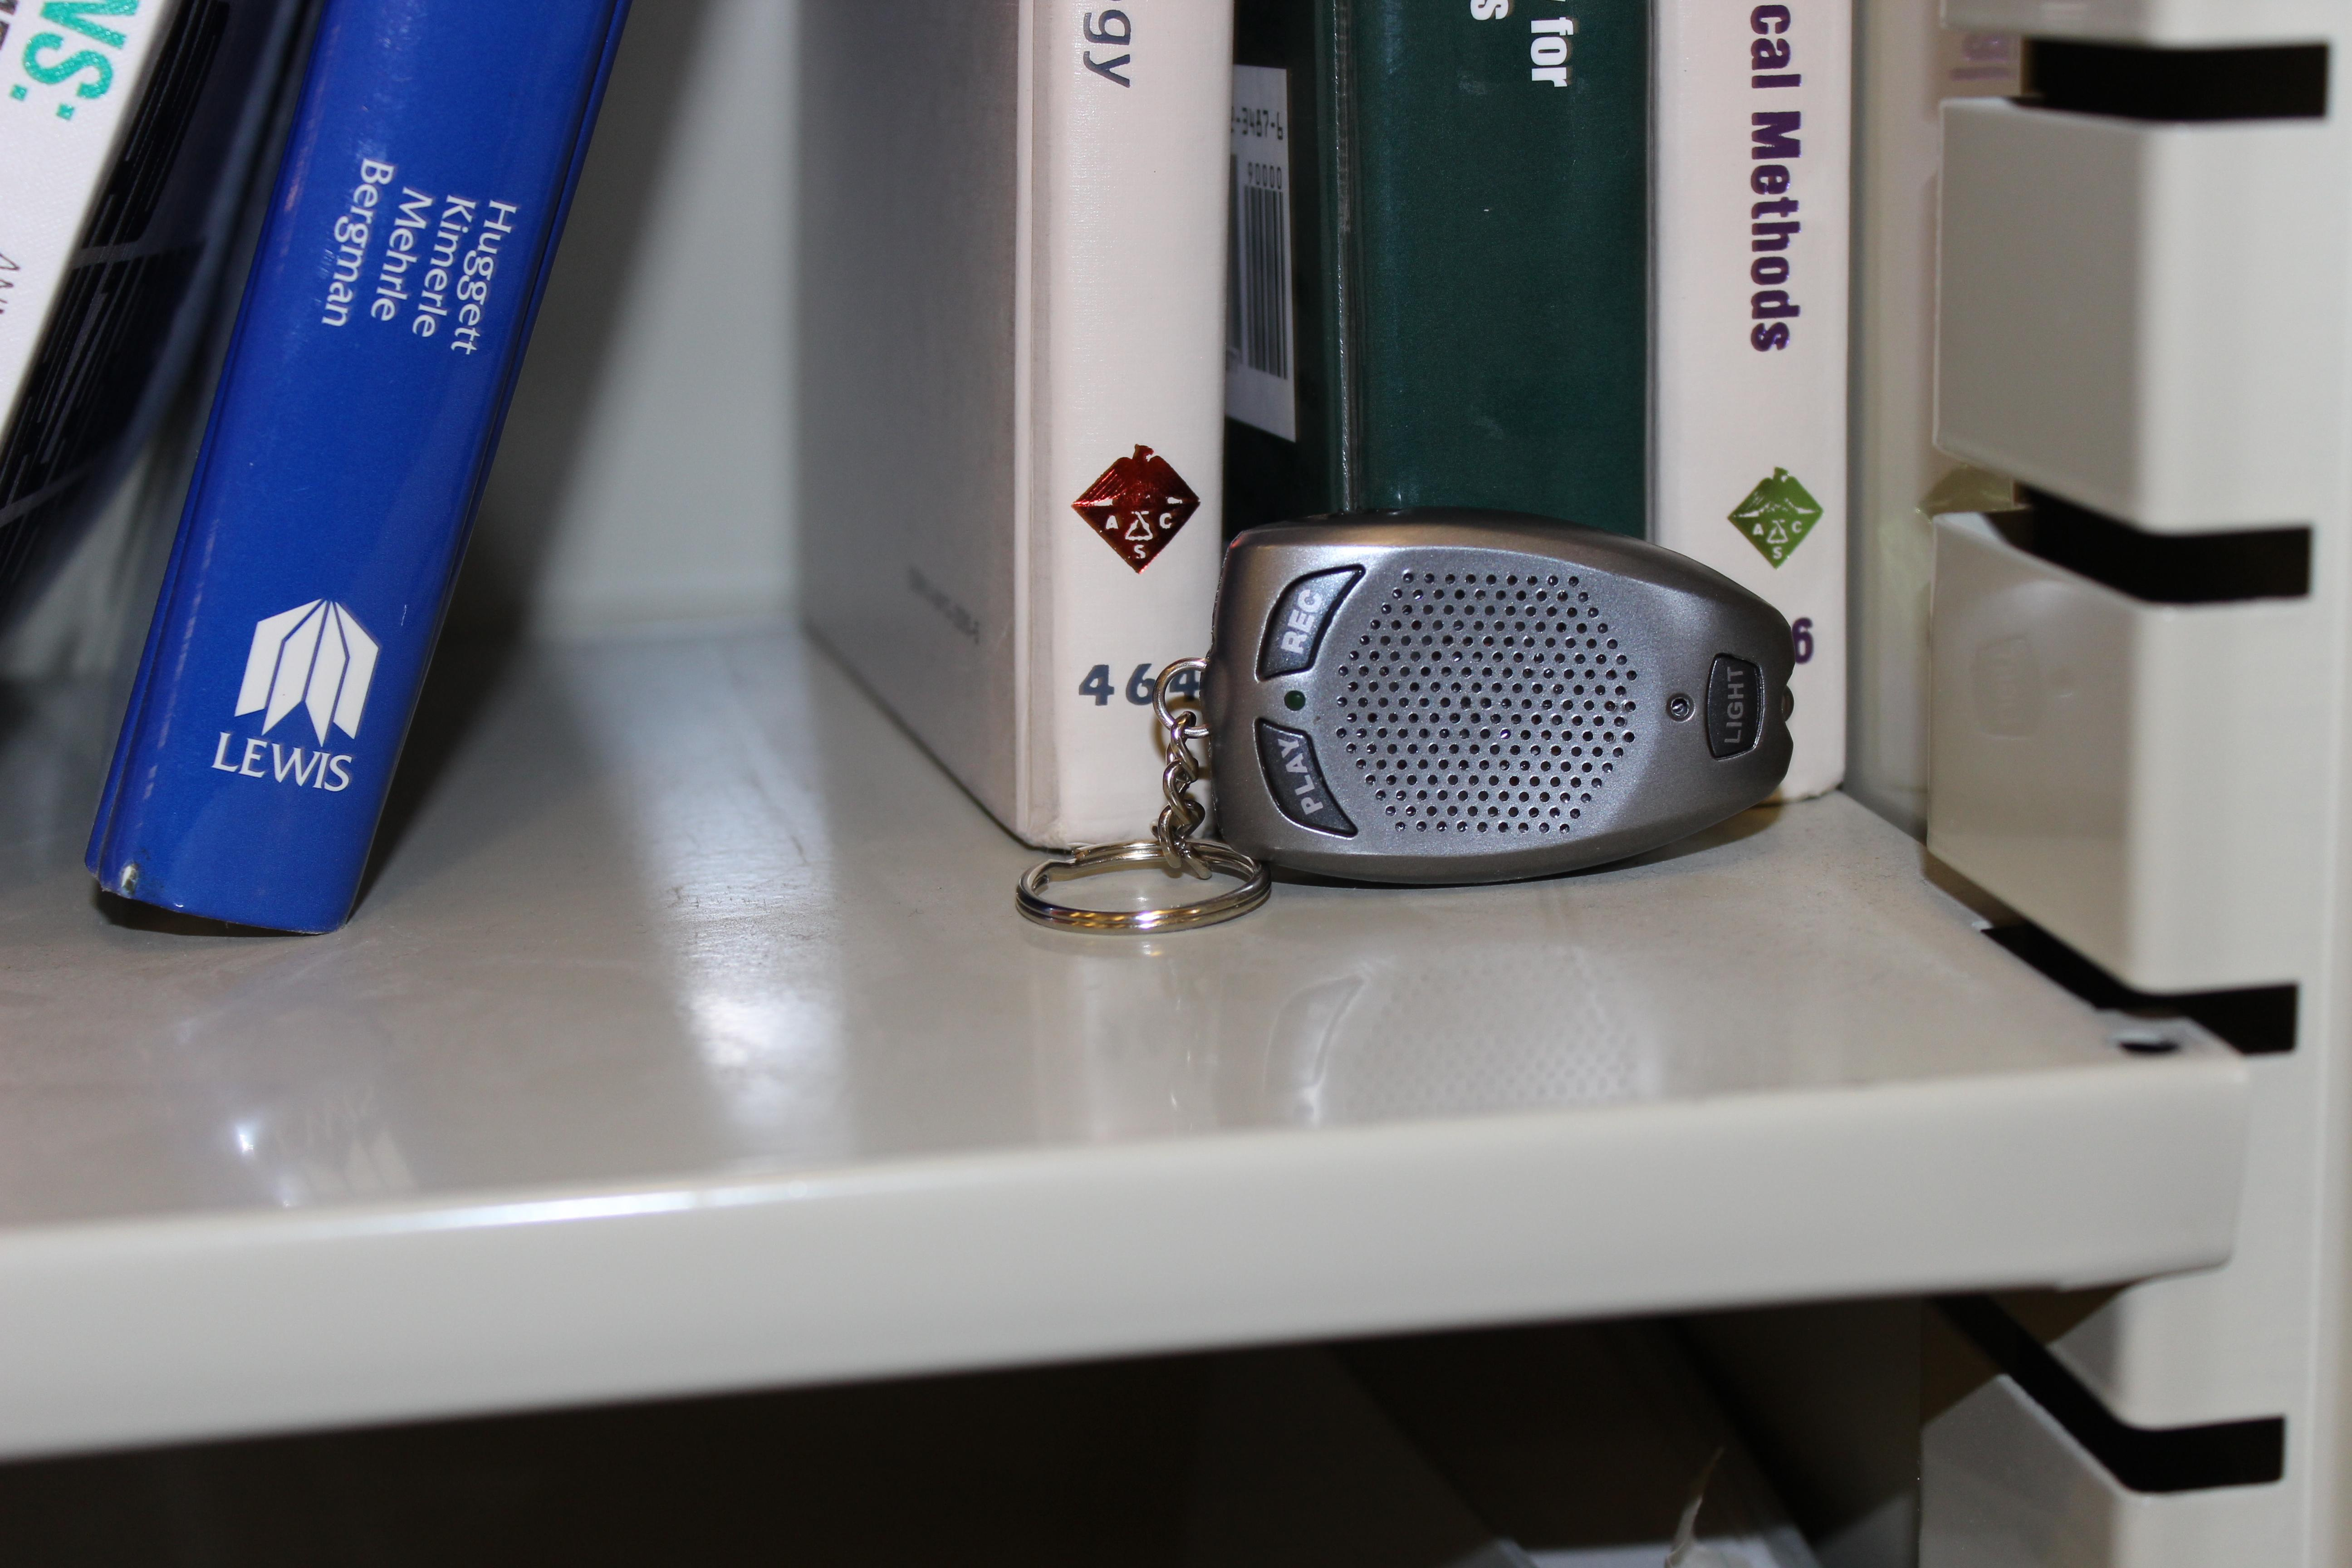voiceRecorder: (1001, 478, 1846, 985)
